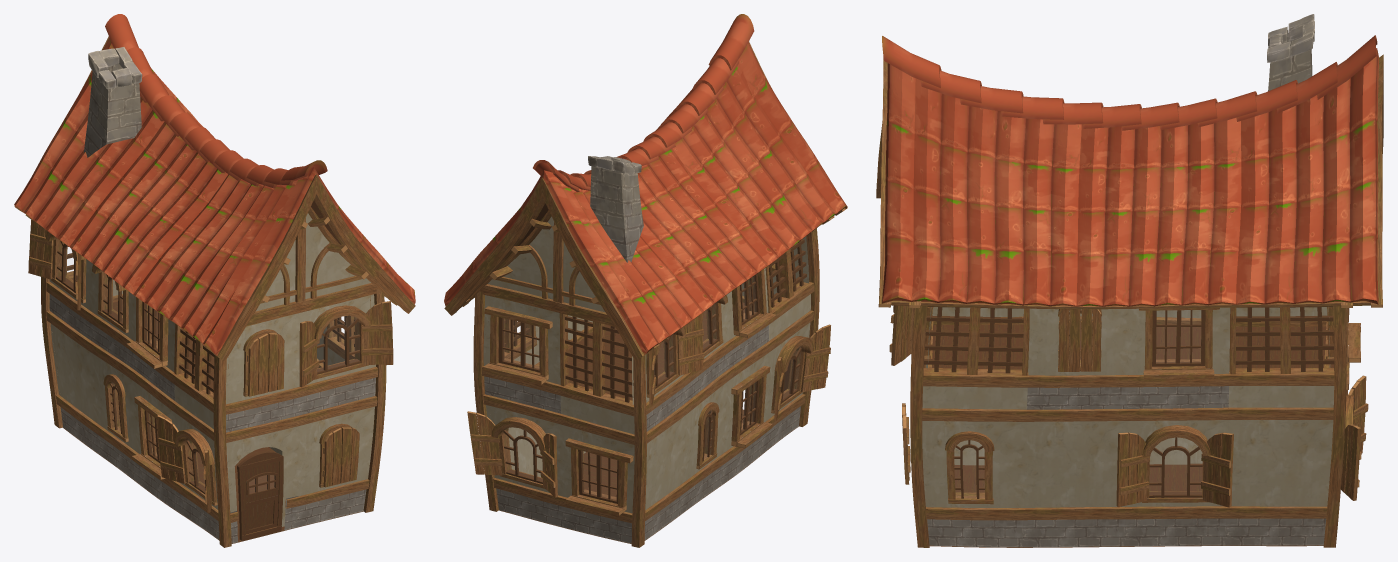
3 views of the same model, side by side, from view 1: azimuth 30°, elevation 25°; view 2: azimuth 150°, elevation 25°; view 3: azimuth 270°, elevation 25° (orthographic). The views are drawn at different scales.
Parts seen in each view (by area): view 1: H08; view 2: H08; view 3: H08.
Part boxes in pixels (left/top/right/bottom): H08: left=14, top=14, right=415, bottom=547; H08: left=444, top=14, right=847, bottom=547; H08: left=876, top=14, right=1383, bottom=547.
Bounding box in the file's own units: 5.99 × 10.31 × 10.04.
35 materials, 31 textured.
